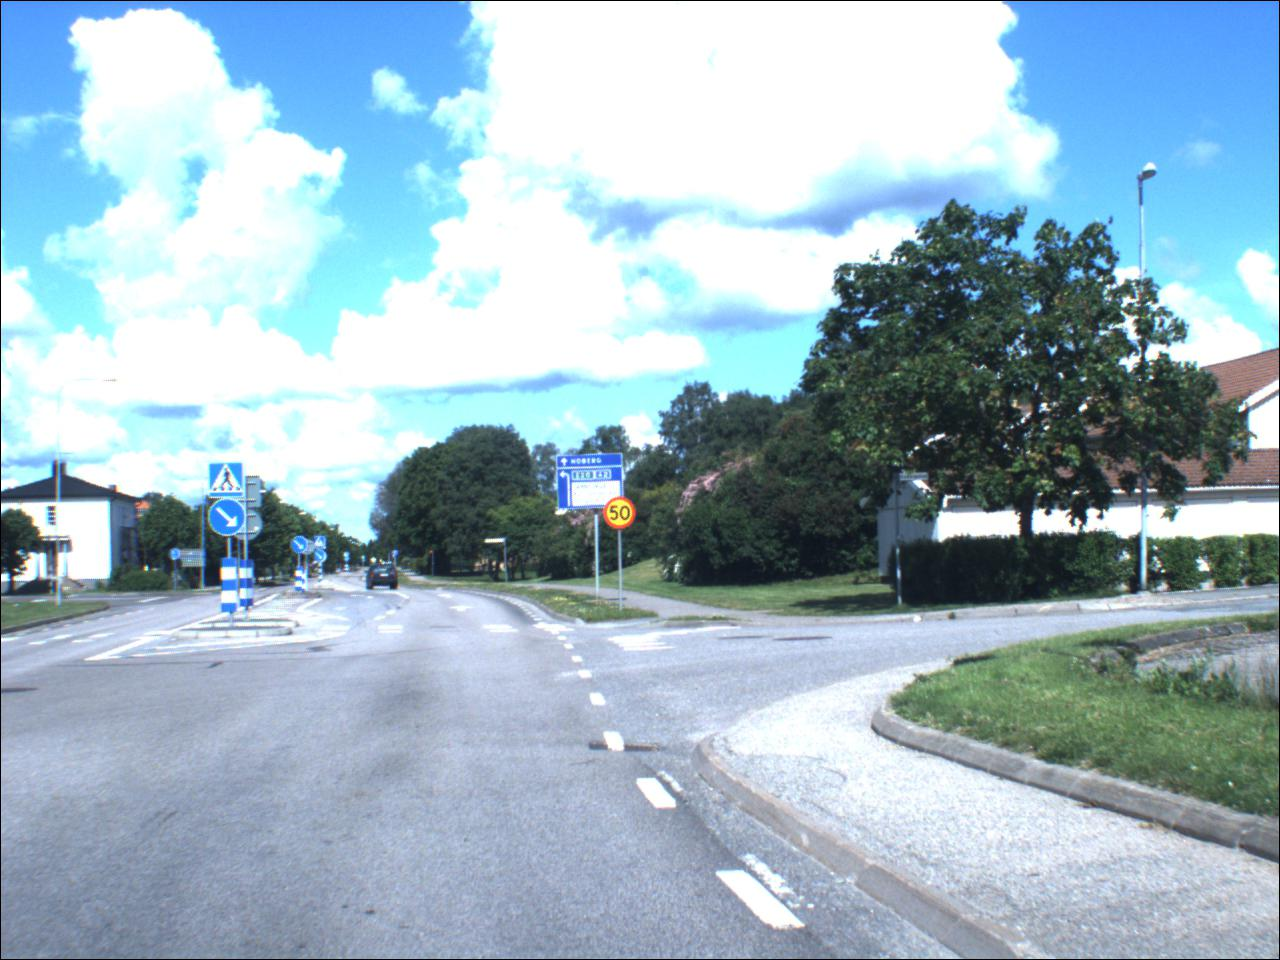50_SIGN: (606, 496, 640, 533)
PASS_RIGHT_SIDE: (209, 500, 247, 538), (293, 537, 310, 556), (316, 552, 329, 567)
PEDESTRIAN_CROSSING: (212, 464, 247, 502), (317, 537, 330, 550)
